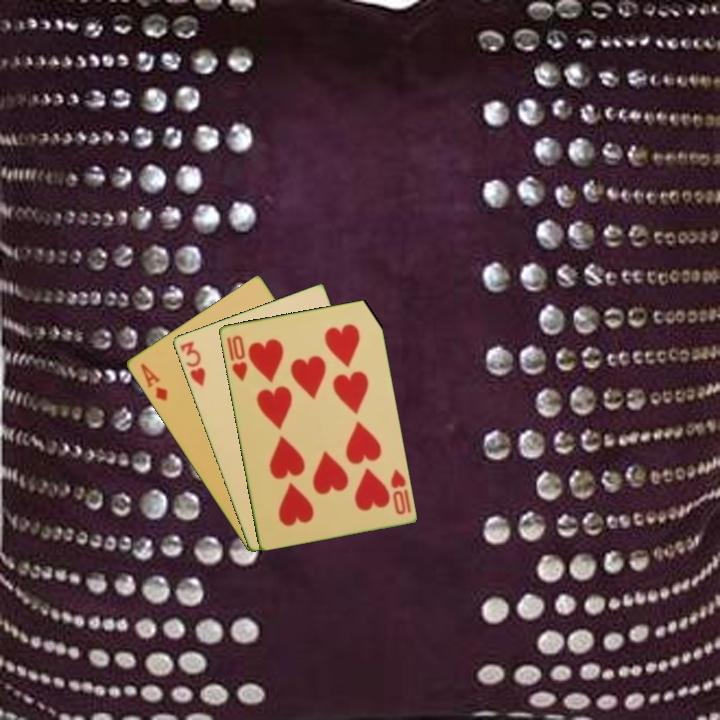10h: (387, 465, 413, 517), (228, 331, 250, 384)
3h: (176, 338, 208, 389)
Ad: (136, 360, 170, 404)
